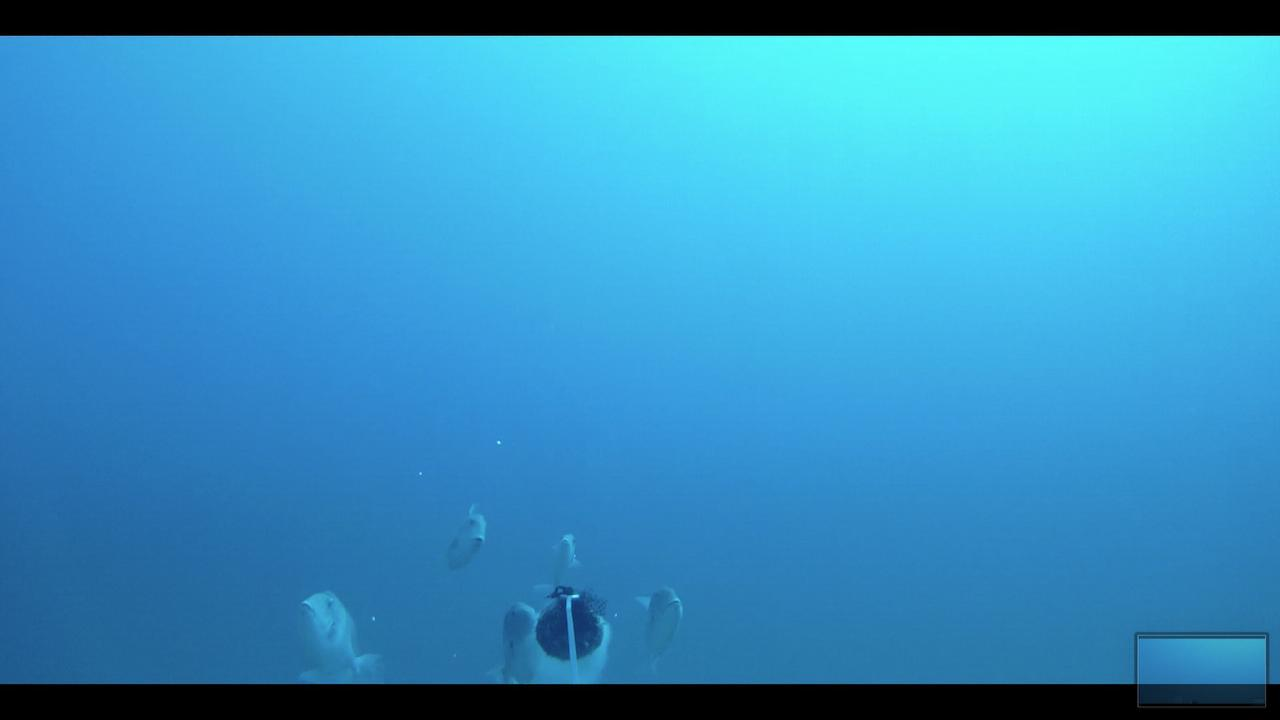balistes: (285, 572, 392, 682), (629, 577, 686, 678), (487, 592, 544, 680), (437, 500, 489, 576), (532, 524, 582, 591)
